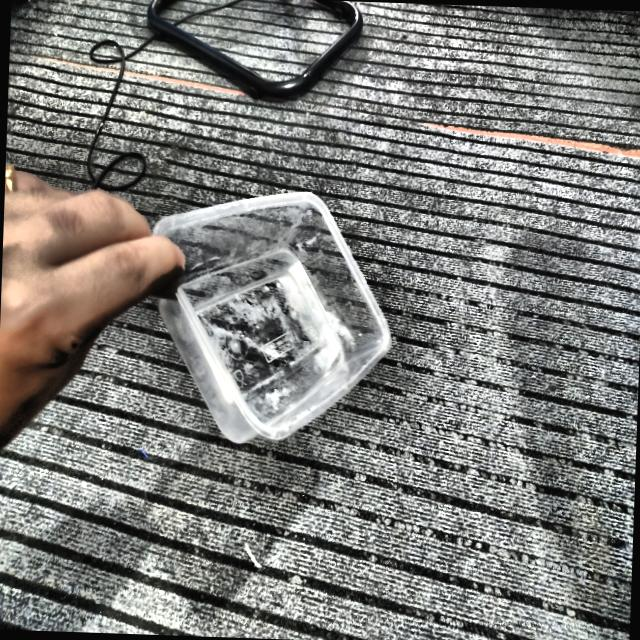plastic container: (154, 191, 391, 442)
